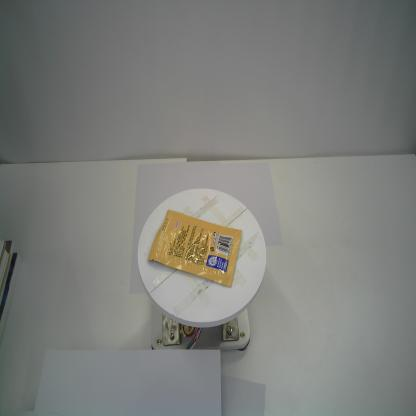Seasoner: (146, 209, 244, 288)
